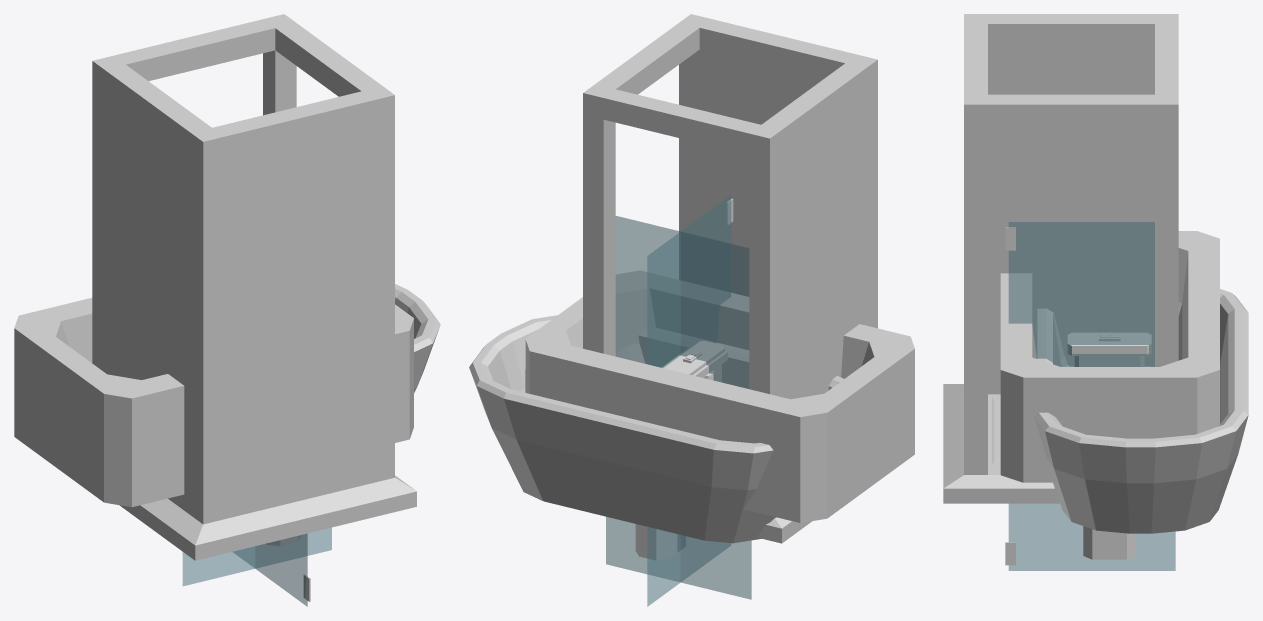
Rendered from Low Poly Bathroom .fbx.
3 views of the same model, side by side, from view 1: azimuth 30°, elevation 25°; view 2: azimuth 150°, elevation 25°; view 3: azimuth 270°, elevation 25° (orthographic). The views are drawn at different scales.
Parts seen in each view (by area): view 1: Cube, Cube.007, Cube.001, Cube.002, Cube.004; view 2: Cube, Cube.007, Cube.004, Cube.001, Cube.002, Plane.004, Cube.013; view 3: Cube, Cube.002, Cube.007, Cube.004, Cube.013, Plane.004.
Part boxes in pixels (x1,y1,x2,y2): Cube: [92, 14, 416, 560]; Cube.007: [14, 298, 413, 507]; Cube.001: [182, 527, 331, 586]; Cube.002: [233, 533, 310, 606]; Cube.004: [395, 284, 440, 392]; Cube: [583, 14, 877, 543]; Cube.007: [525, 270, 914, 522]; Cube.004: [469, 315, 843, 543]; Cube.001: [606, 216, 751, 599]; Cube.002: [647, 195, 733, 606]; Plane.004: [635, 371, 714, 560]; Cube.013: [662, 340, 725, 375]; Cube: [943, 14, 1178, 503]; Cube.002: [1005, 222, 1175, 570]; Cube.007: [1000, 231, 1219, 482]; Cube.004: [1034, 289, 1248, 533]; Cube.013: [1067, 332, 1151, 366]; Plane.004: [1083, 526, 1135, 559].
Bounding box in the file's own units: 385 × 503 × 281.
